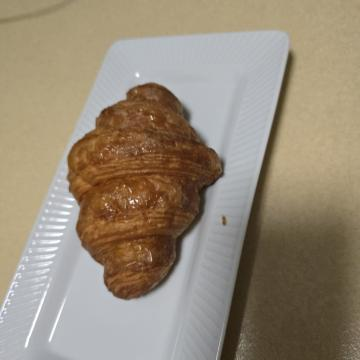croissant: (68, 128, 310, 312)
